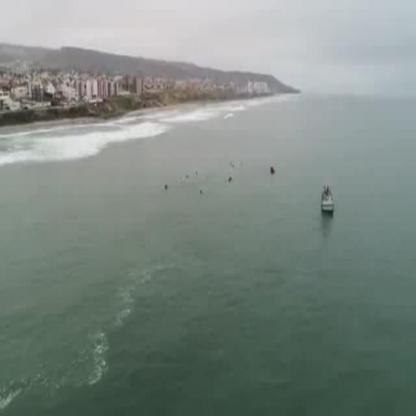Boat: (316, 185, 340, 216)
